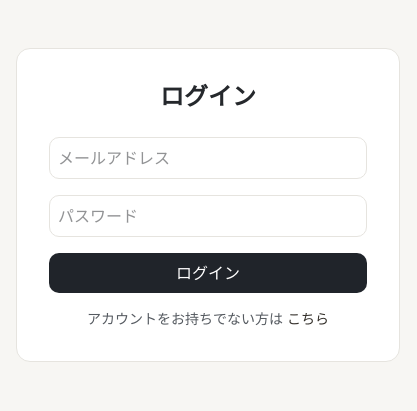
Test case: LoginPage › エラーが時にメールアドレスまたはパスワードが正しくありませんを表示
Click the button "ログイン".
click(208, 273)  # box [49,253,367,293]
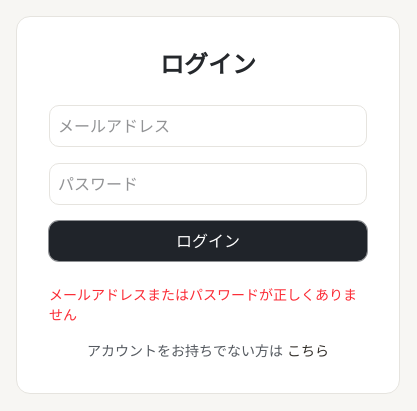
expect the text "メールアドレスまたはパスワードが正しくありません" is shown: met, box [49,285,367,325]
